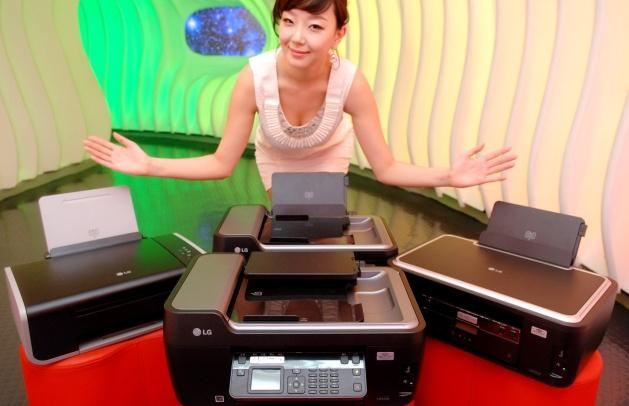Printer: (386, 198, 619, 388), (165, 249, 427, 405), (2, 184, 206, 365), (209, 170, 399, 268)
